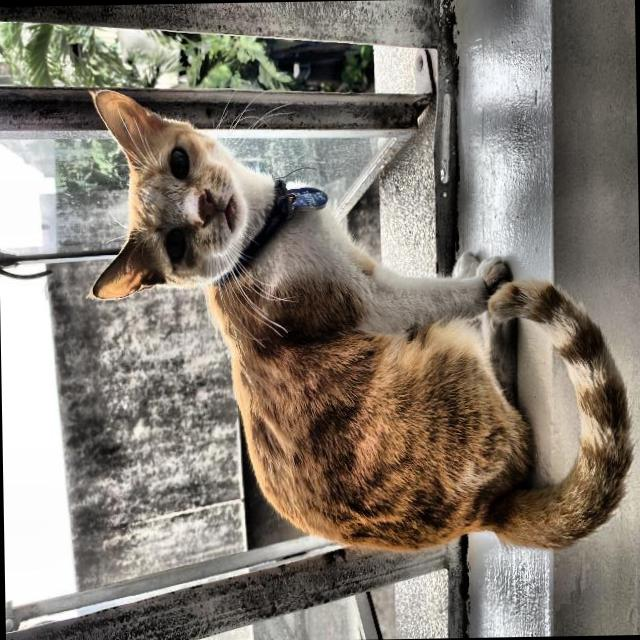Healthy skin: (273, 334, 381, 486), (418, 246, 534, 378), (463, 446, 594, 534)
